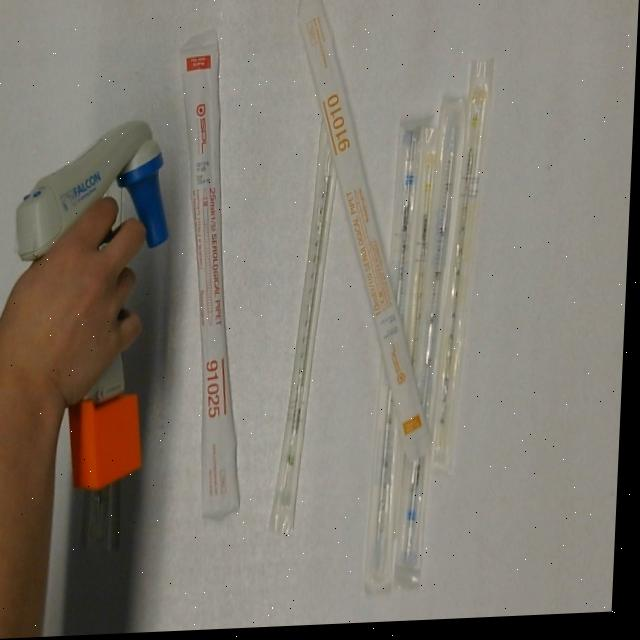Pipette Controller: (3, 114, 177, 498)
Serelogical Pipet 1 mL: (436, 58, 500, 478), (407, 127, 446, 381)
Serelogical Pipet 10 mL: (278, 0, 457, 471)
Serelogical Pipet 2 mL: (269, 112, 352, 542)
Serelogical Pipet 25 mL: (164, 32, 264, 524)
Serelogical Pipet 5 mL: (402, 102, 475, 579), (362, 116, 432, 601)
